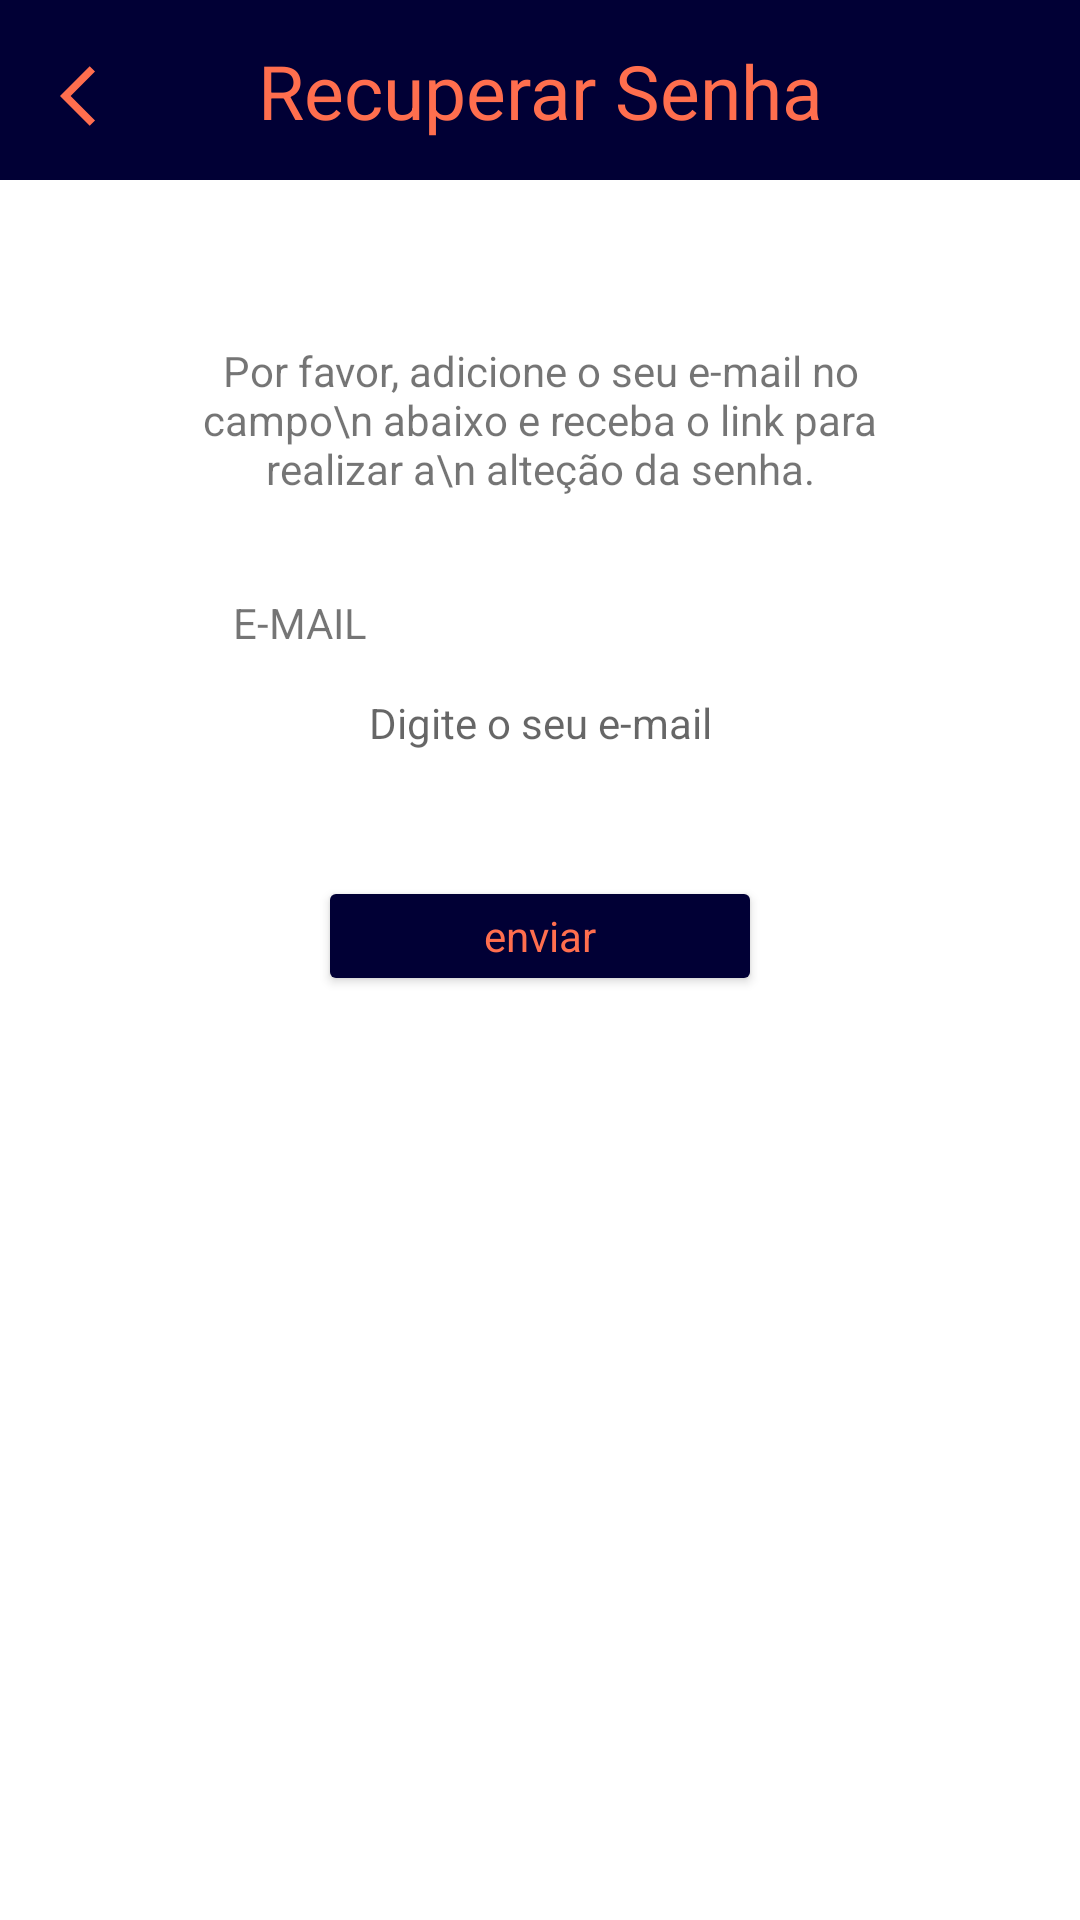

Point at icon controls on the screen. Image size 1080 × 1920, points as [x,y].
arrow back: [77,96]
